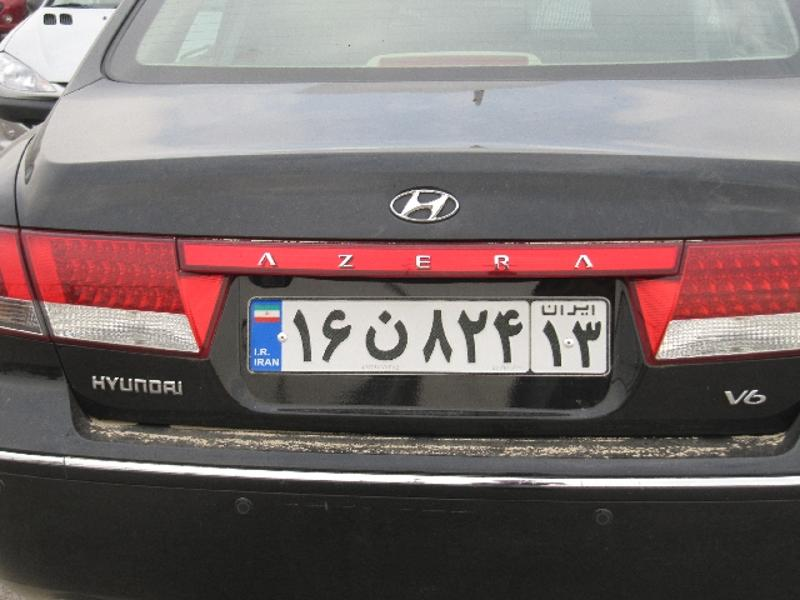Plate: (240, 289, 626, 386)
